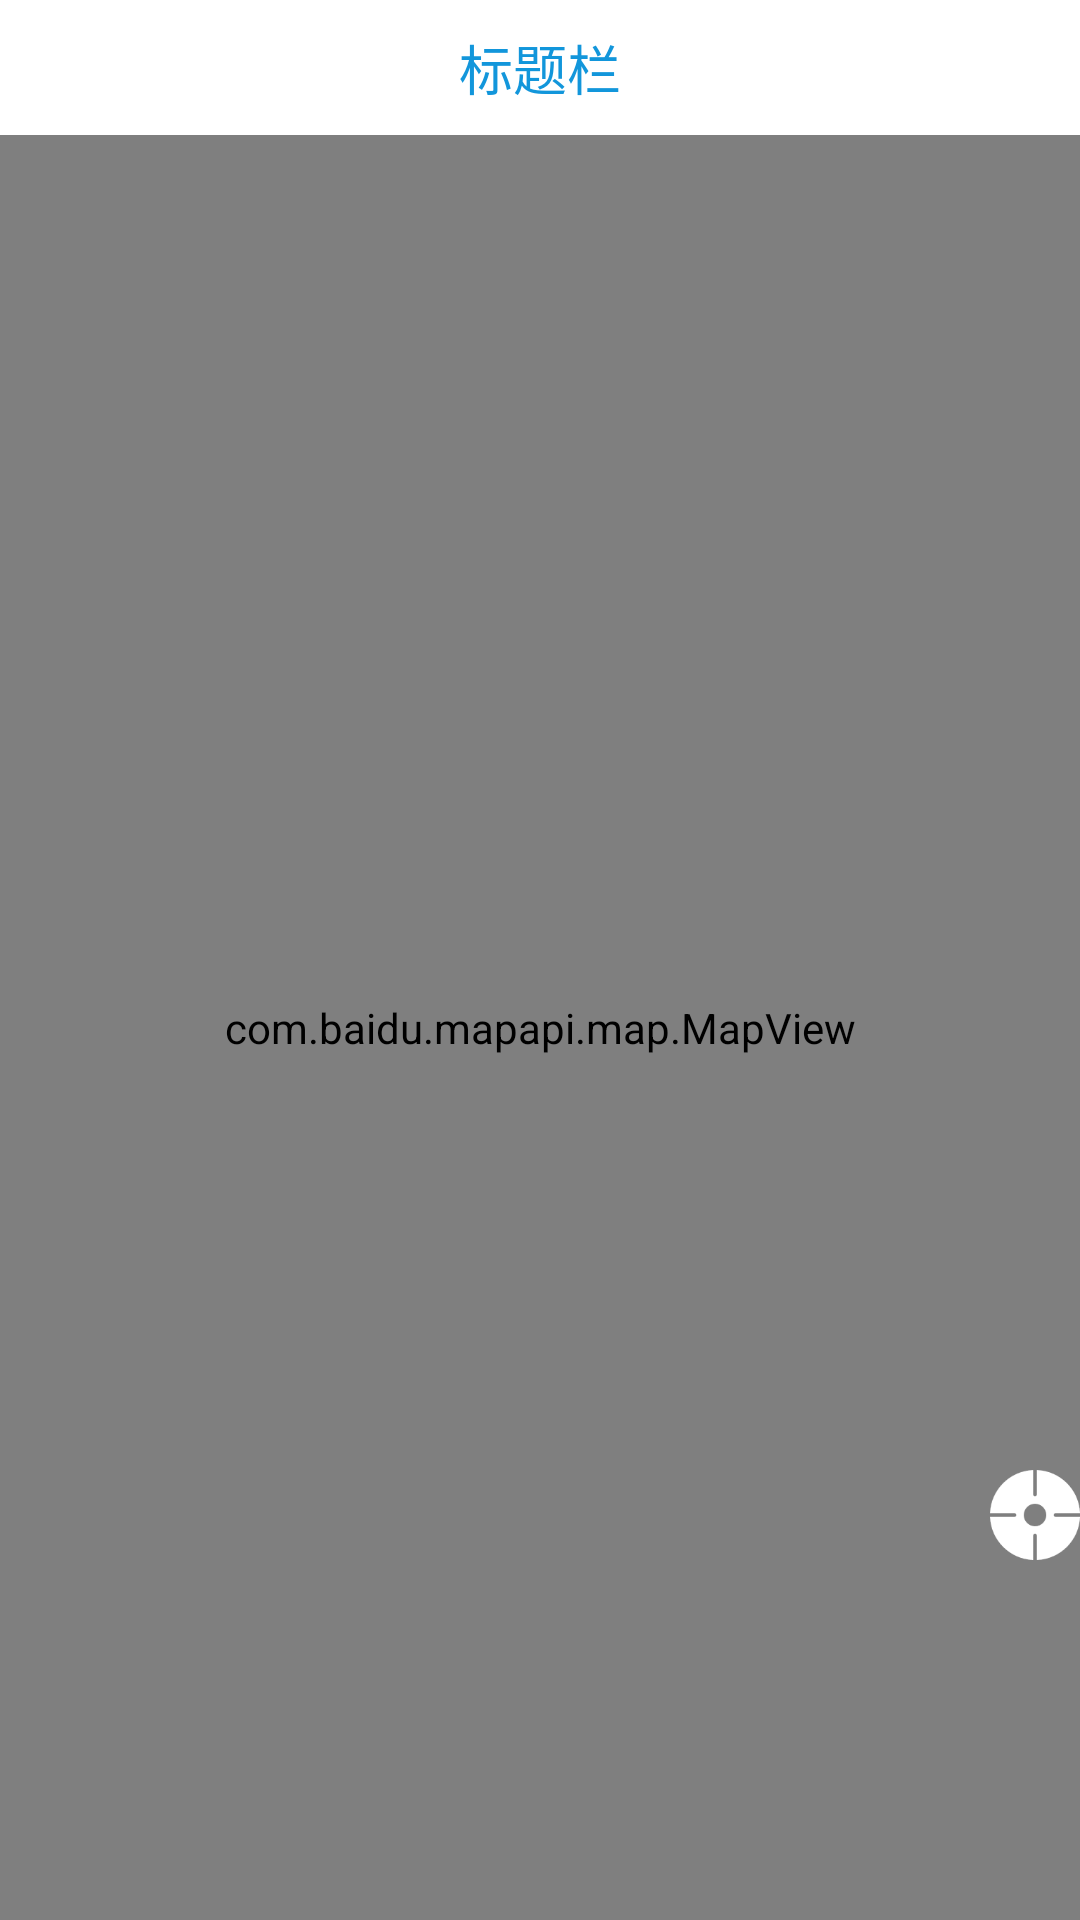

Icons on this 1080px×1920px Android screen, each with its box as (x1, y1, x2, y2):
geo: (990, 1470, 1080, 1560)
